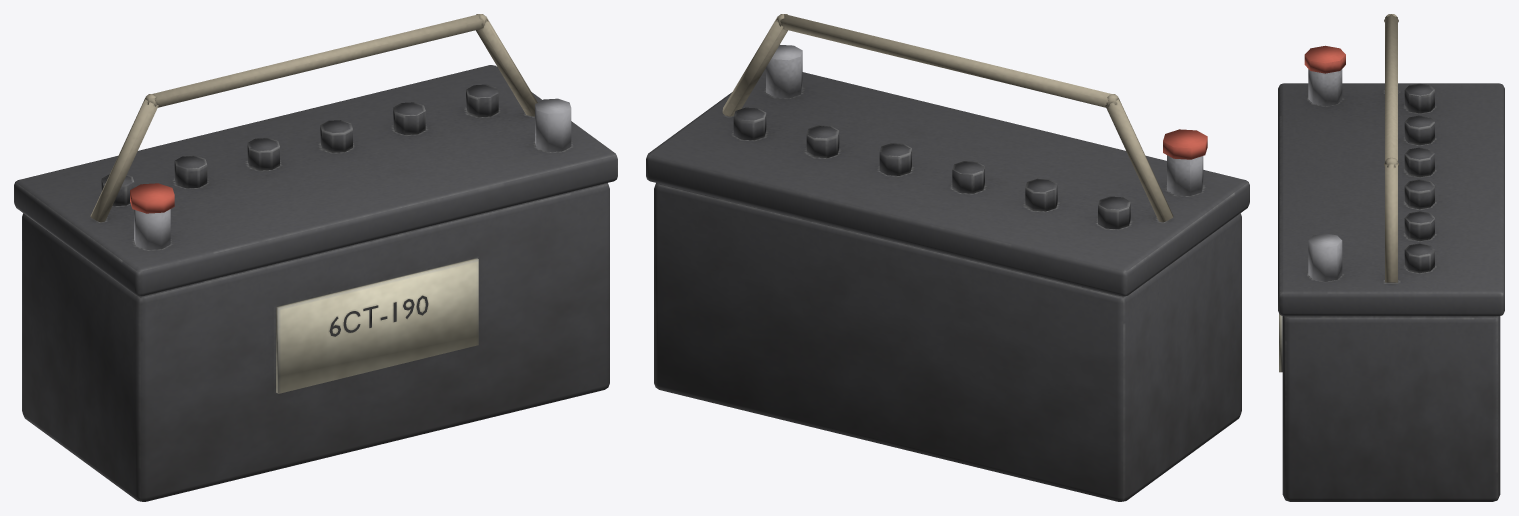
File: akb.glb
3 views of the same model, side by side, from view 1: azimuth 30°, elevation 25°; view 2: azimuth 150°, elevation 25°; view 3: azimuth 270°, elevation 25° (orthographic). The views are drawn at different scales.
Parts seen in each view (by area): view 1: akb; view 2: akb; view 3: akb.
Boxes of the visible parts, x1,y1,x2,y2 form: akb: (14, 14, 617, 501); akb: (646, 14, 1249, 501); akb: (1278, 14, 1504, 501).
Size of the model in its own units: 0.53 by 0.368 by 0.24.
1 material, 1 textured.
